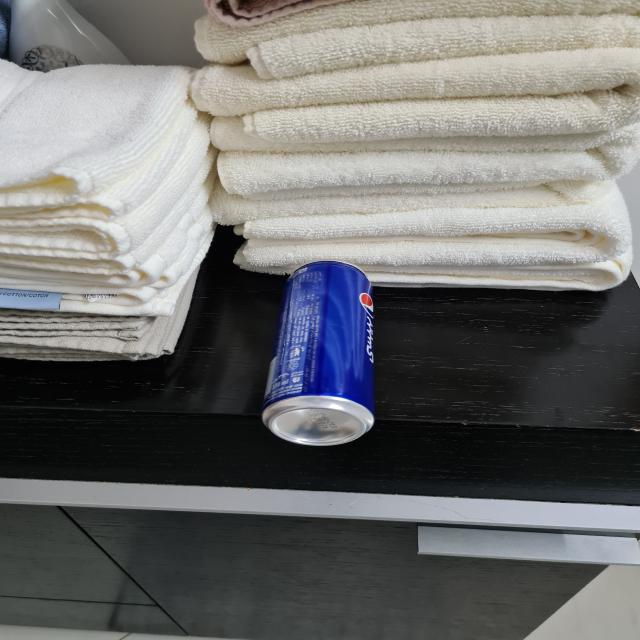non-organic waste: (260, 259, 378, 442)
